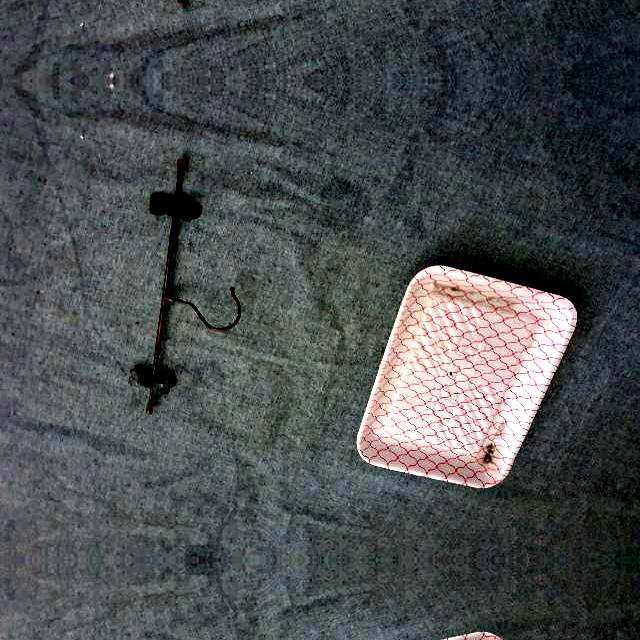Styrofoam: (356, 262, 580, 488), (357, 265, 578, 488)
